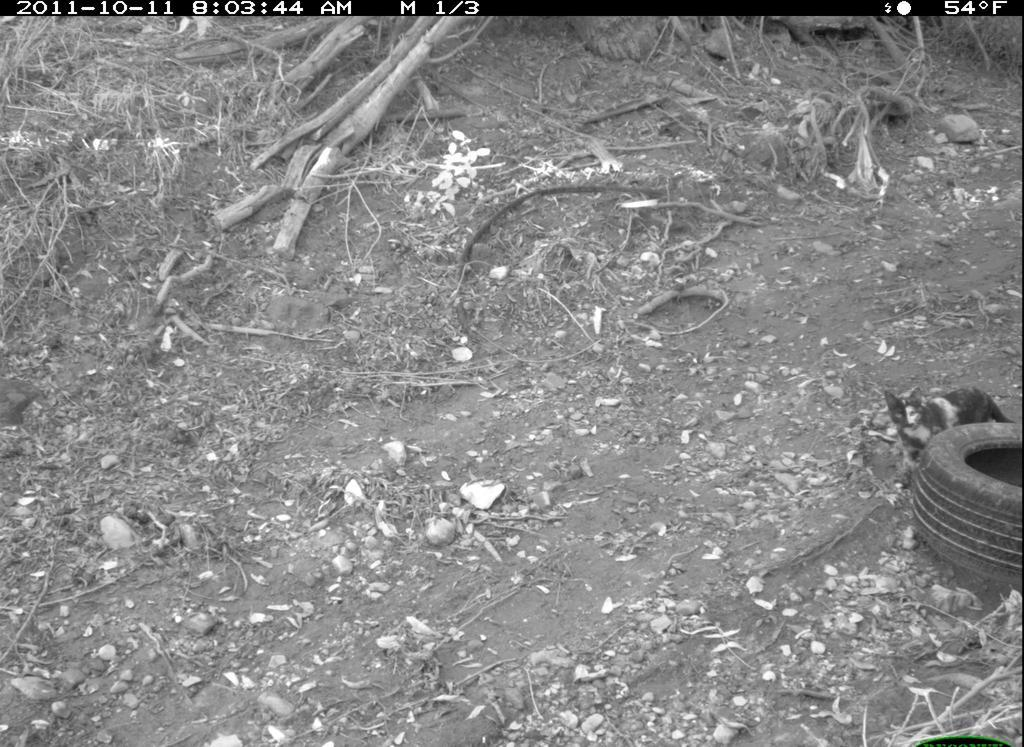cat: (880, 386, 1021, 474)
